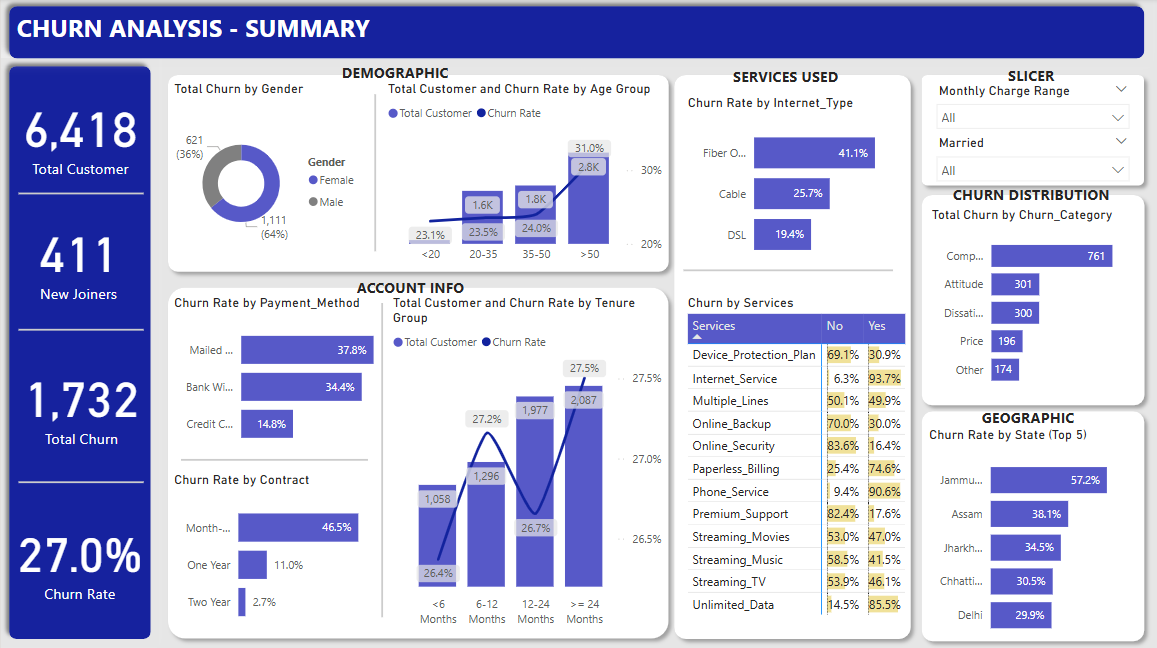

This screenshot's page, from the dashboard's own definition file:
{"tool":"powerbi","page":{"name":"Summary","canvas":[1280,720],"ordinal":0},"visuals":[{"type":"shape","box":[0,0,1280.6,720.7],"z":0},{"type":"shape","box":[1006.8,75.7,264.1,140.3],"z":1000},{"type":"shape","box":[1006.8,207.7,264.1,250.3],"z":2000},{"type":"shape","box":[1006.8,447,264.1,272.3],"z":3000},{"type":"shape","box":[734.5,75.7,279.2,641],"z":4000},{"type":"shape","box":[174.7,310.9,570.8,405.8],"z":5000},{"type":"shape","box":[174.7,75.7,570.8,235.2],"z":6000},{"type":"shape","box":[0,65.8,174.1,650],"z":7000},{"type":"card","fields":{"Values":["Table_Measures.Total Customer"]},"box":[12.3,68.6,150.8,160.4],"z":8000},{"type":"card","fields":{"Values":["Table_Measures.New Joiners"]},"box":[11,207,149.4,160.4],"z":9000},{"type":"card","fields":{"Values":["Table_Measures.Total Churn"]},"box":[13.7,367.4,150.8,160.4],"z":10000},{"type":"card","fields":{"Values":["Table_Measures.Churn Rate"]},"box":[12.3,540.2,149.4,160.4],"z":11000},{"type":"donutChart","fields":{"Category":["customer_data.Gender"],"Y":["Table_Measures.Total Churn"]},"box":[185.7,90.8,218.7,210.4],"z":12000},{"type":"lineStackedColumnComboChart","fields":{"Category":["mapping_AgeGrp.Age Group"],"Y":["Table_Measures.Total Customer"],"Y2":["Table_Measures.Churn Rate"]},"box":[422.3,90.8,312.2,210.4],"z":13000},{"type":"clusteredBarChart","fields":{"Category":["customer_data.Payment_Method"],"Y":["Table_Measures.Churn Rate"]},"box":[185.7,327.4,264.1,181.6],"z":14000},{"type":"clusteredBarChart","fields":{"Category":["customer_data.Contract"],"Y":["Table_Measures.Churn Rate"]},"box":[185.7,522.7,253.1,182.9],"z":15000},{"type":"lineStackedColumnComboChart","fields":{"Category":["mapping_TenureGrp.Tenure Group"],"Y":["Table_Measures.Total Customer"],"Y2":["Table_Measures.Churn Rate"]},"box":[427.8,327.4,306.7,374.1],"z":16000},{"type":"clusteredBarChart","title":"Churn Rate by State (Top 5)","fields":{"Category":["customer_data.State"],"Y":["Table_Measures.Churn Rate"]},"box":[1019.2,473.2,239.3,243.5],"z":17000},{"type":"clusteredBarChart","fields":{"Category":["customer_data.Churn_Category"],"Y":["Table_Measures.Total Churn"]},"box":[1022,231.1,233.8,210.4],"z":18000},{"type":"clusteredBarChart","fields":{"Category":["customer_data.Internet_Type"],"Y":["Table_Measures.Churn Rate"]},"box":[753.8,105.9,260,196.7],"z":19000},{"type":"pivotTable","title":"Churn by Services","fields":{"Rows":["Services.Services"],"Columns":["Services.Status"],"Values":["Sum(Services.Churn Status)"]},"box":[753.8,327.4,260,378.3],"z":20000},{"type":"slicer","fields":{"Values":["customer_data.Monthly Charge status"]},"box":[1022.5,88.3,233.2,58],"z":21000},{"type":"slicer","fields":{"Values":["customer_data.Married"]},"box":[1022.5,146.3,233.2,60.7],"z":22000},{"type":"shape","box":[0,0,1270.9,75.9],"z":23000},{"type":"textbox","box":[12.4,9.6,426.4,45.4],"z":24000},{"type":"shape","box":[19.2,207,139.8,17.8],"z":25000},{"type":"shape","box":[19.2,357.8,139.8,17.8],"z":26000},{"type":"shape","box":[19.2,525.1,139.8,17.8],"z":27000},{"type":"shape","box":[198.1,496.5,206.3,26.1],"z":28000},{"type":"shape","box":[414,337,13.8,350.7],"z":29000},{"type":"shape","box":[404.4,105.9,17.9,176.1],"z":30000},{"type":"shape","box":[753.4,287,234.6,27.6],"z":31000},{"type":"textbox","box":[387.8,303.6,142.1,33.1],"z":32000},{"type":"textbox","box":[803.1,70.4,135.2,35.9],"z":33000},{"type":"textbox","box":[1046,200.1,194.6,40],"z":34000},{"type":"textbox","box":[1077.7,447.1,121.4,37.3],"z":35000},{"type":"textbox","box":[1106.7,69,74.5,31.7],"z":36000},{"type":"textbox","box":[371.2,66.2,136.6,33.1],"z":37000}]}

Visuals, with their boxes in screenshot pixels (x1, y1, x2, y2), scaled from the page's 1280x720 canvas onto the 1157x648 screenshot:
shape: bbox=(0, 0, 1156, 647)
shape: bbox=(910, 68, 1149, 194)
shape: bbox=(910, 187, 1149, 412)
shape: bbox=(910, 402, 1149, 647)
shape: bbox=(664, 68, 916, 645)
shape: bbox=(158, 280, 674, 645)
shape: bbox=(158, 68, 674, 280)
shape: bbox=(0, 59, 157, 644)
card - Table_Measures.Total Customer: bbox=(11, 62, 147, 206)
card - Table_Measures.New Joiners: bbox=(10, 186, 145, 331)
card - Table_Measures.Total Churn: bbox=(12, 331, 149, 475)
card - Table_Measures.Churn Rate: bbox=(11, 486, 146, 631)
donutChart - customer_data.Gender x Table_Measures.Total Churn: bbox=(168, 82, 366, 271)
lineStackedColumnComboChart - mapping_AgeGrp.Age Group x Table_Measures.Total Customer: bbox=(382, 82, 664, 271)
clusteredBarChart - customer_data.Payment_Method x Table_Measures.Churn Rate: bbox=(168, 295, 407, 458)
clusteredBarChart - customer_data.Contract x Table_Measures.Churn Rate: bbox=(168, 470, 397, 635)
lineStackedColumnComboChart - mapping_TenureGrp.Tenure Group x Table_Measures.Total Customer: bbox=(387, 295, 664, 631)
"Churn Rate by State (Top 5)" clusteredBarChart: bbox=(921, 426, 1138, 645)
clusteredBarChart - customer_data.Churn_Category x Table_Measures.Total Churn: bbox=(924, 208, 1135, 397)
clusteredBarChart - customer_data.Internet_Type x Table_Measures.Churn Rate: bbox=(681, 95, 916, 272)
"Churn by Services" pivotTable: bbox=(681, 295, 916, 635)
slicer - customer_data.Monthly Charge status: bbox=(924, 79, 1135, 132)
slicer - customer_data.Married: bbox=(924, 132, 1135, 186)
shape: bbox=(0, 0, 1149, 68)
textbox: bbox=(11, 9, 397, 50)
shape: bbox=(17, 186, 144, 202)
shape: bbox=(17, 322, 144, 338)
shape: bbox=(17, 473, 144, 489)
shape: bbox=(179, 447, 366, 470)
shape: bbox=(374, 303, 387, 619)
shape: bbox=(366, 95, 382, 254)
shape: bbox=(681, 258, 893, 283)
textbox: bbox=(351, 273, 479, 303)
textbox: bbox=(726, 63, 848, 96)
textbox: bbox=(945, 180, 1121, 216)
textbox: bbox=(974, 402, 1084, 436)
textbox: bbox=(1000, 62, 1068, 91)
textbox: bbox=(336, 60, 459, 89)
